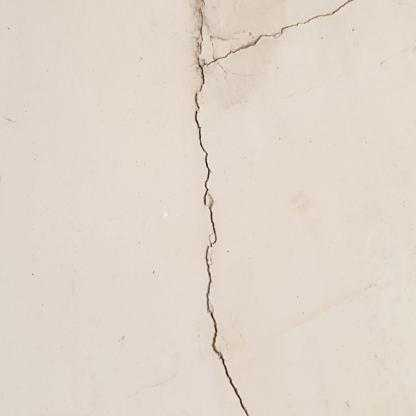crack: (195, 0, 354, 416)
